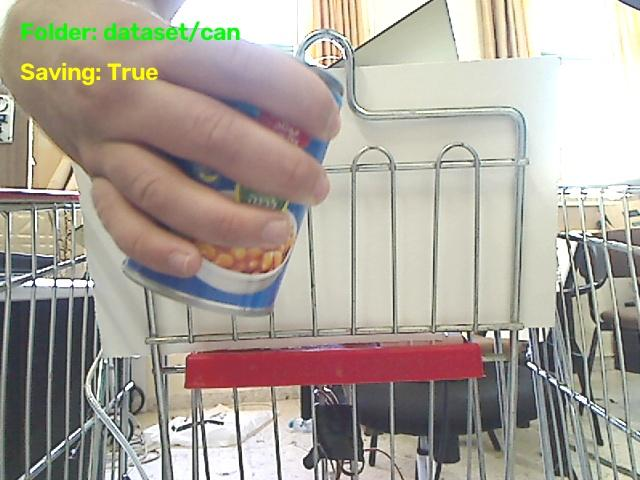can: (123, 159, 306, 315)
